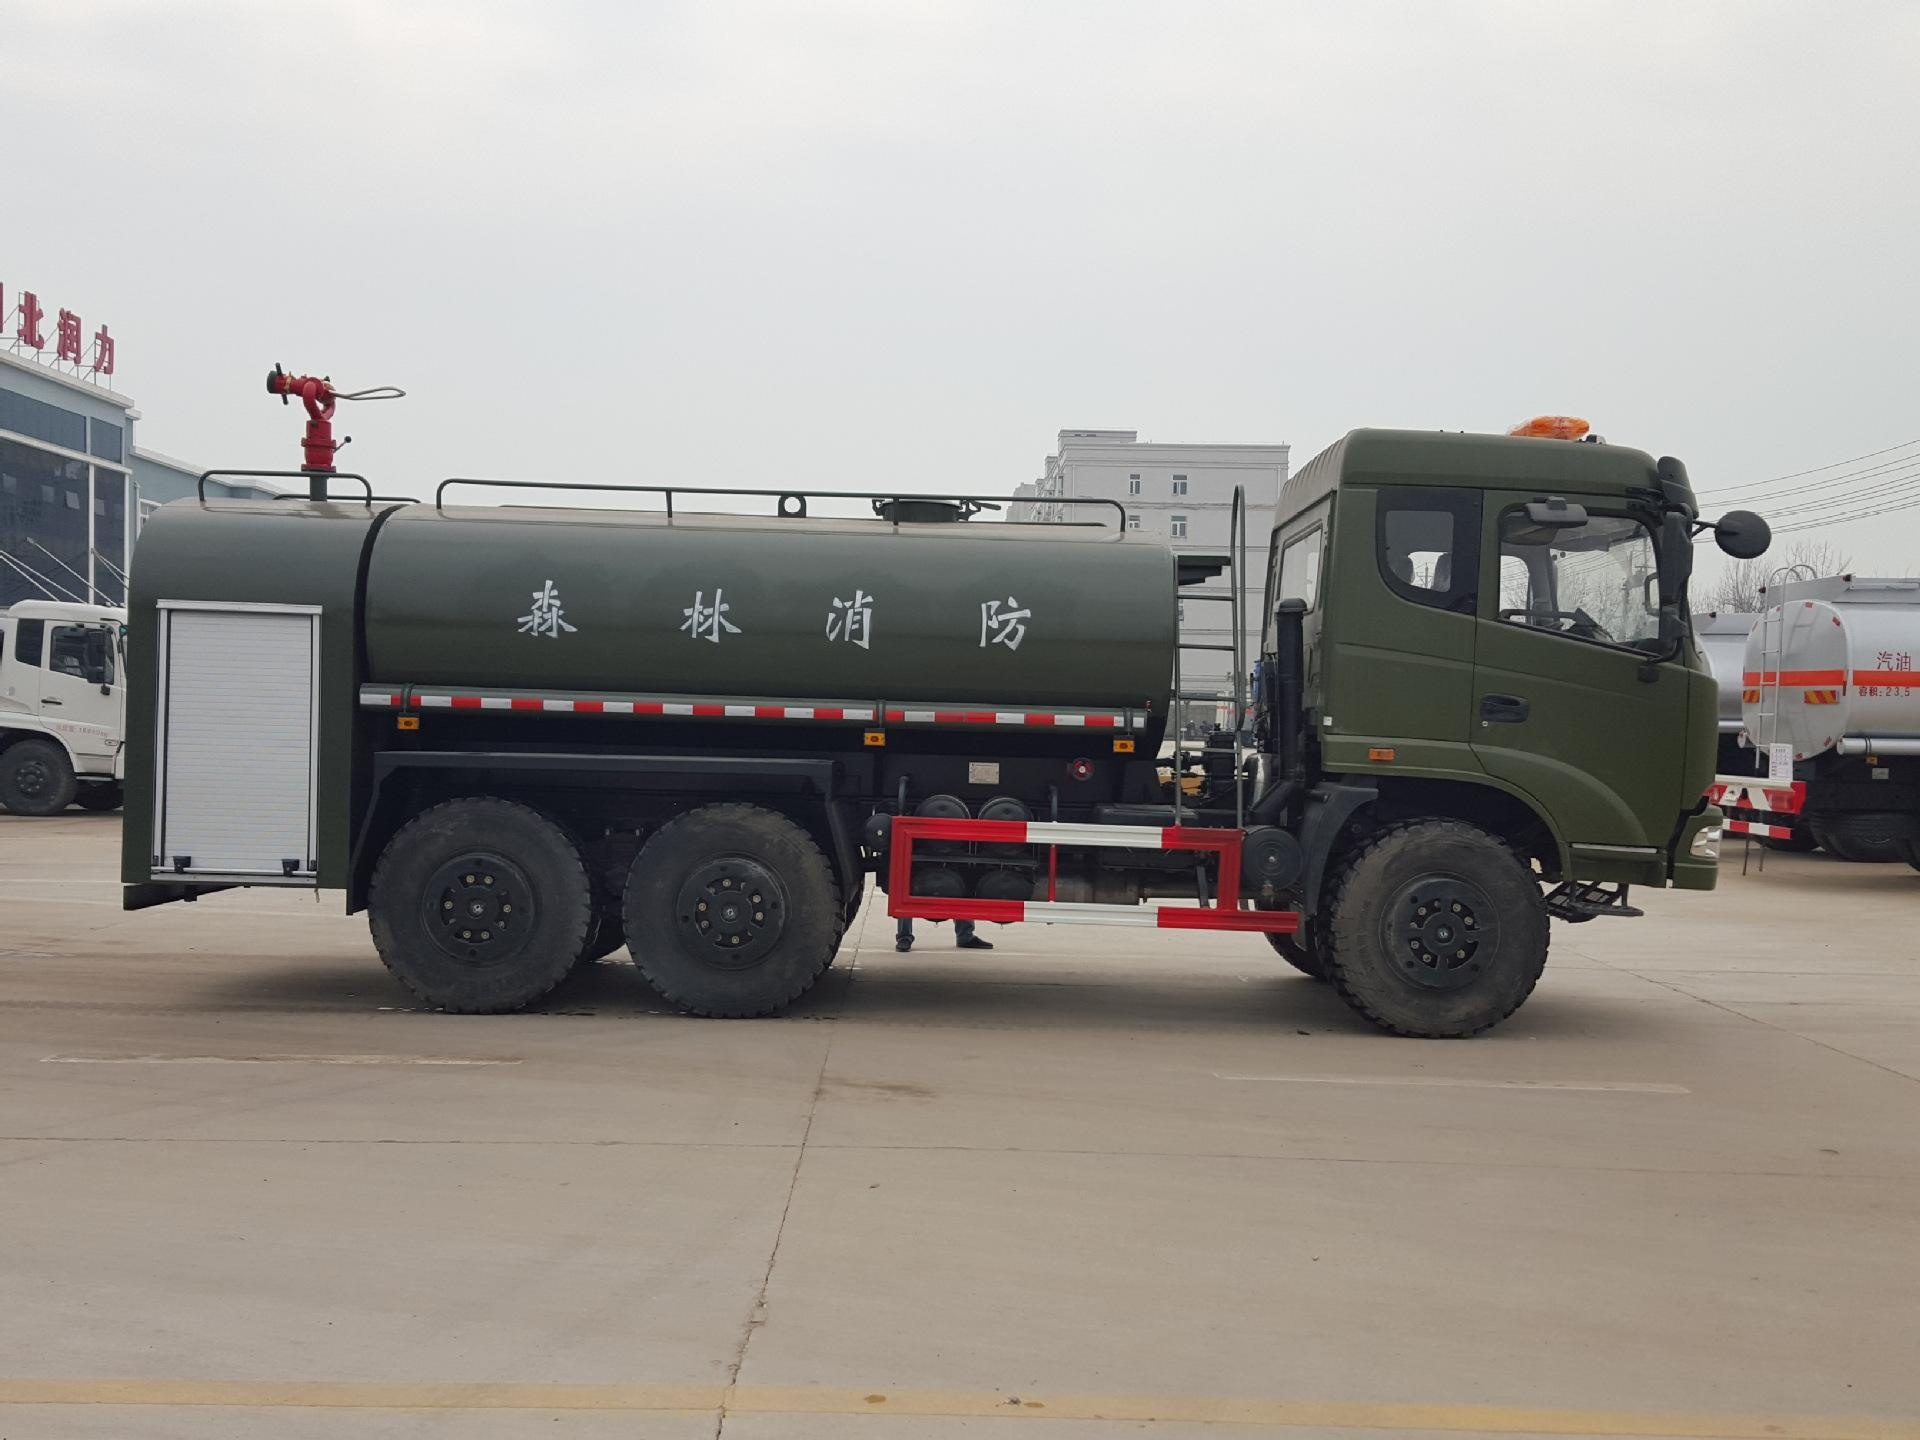fire engine: (86, 298, 1813, 1082)
